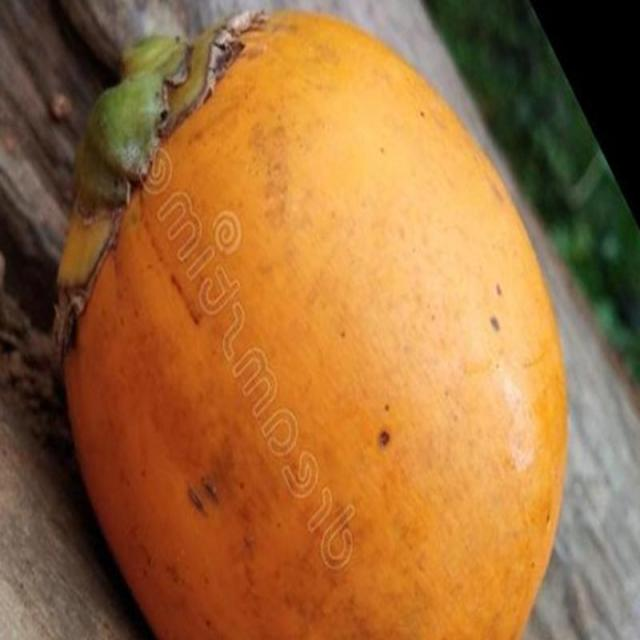good: (55, 11, 571, 639)
